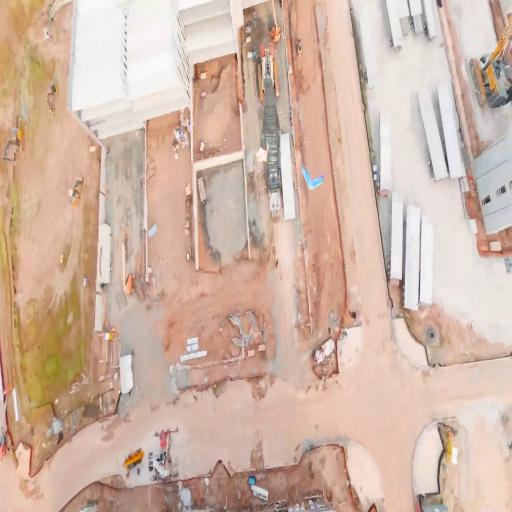uav: (300, 164, 325, 192)
